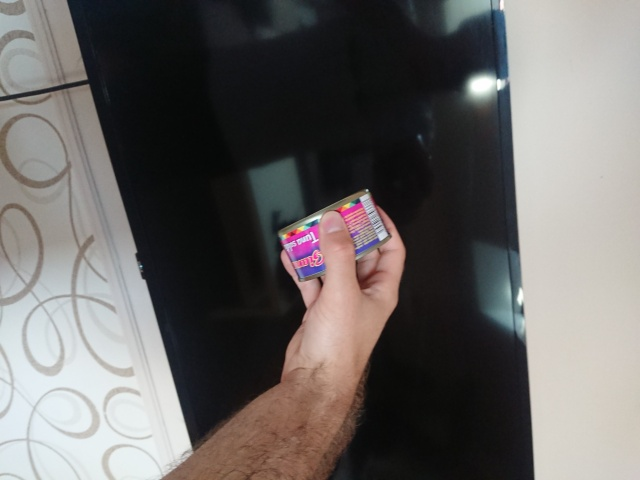Giana Tuna Salad Mexico 185g: (274, 184, 395, 285)
